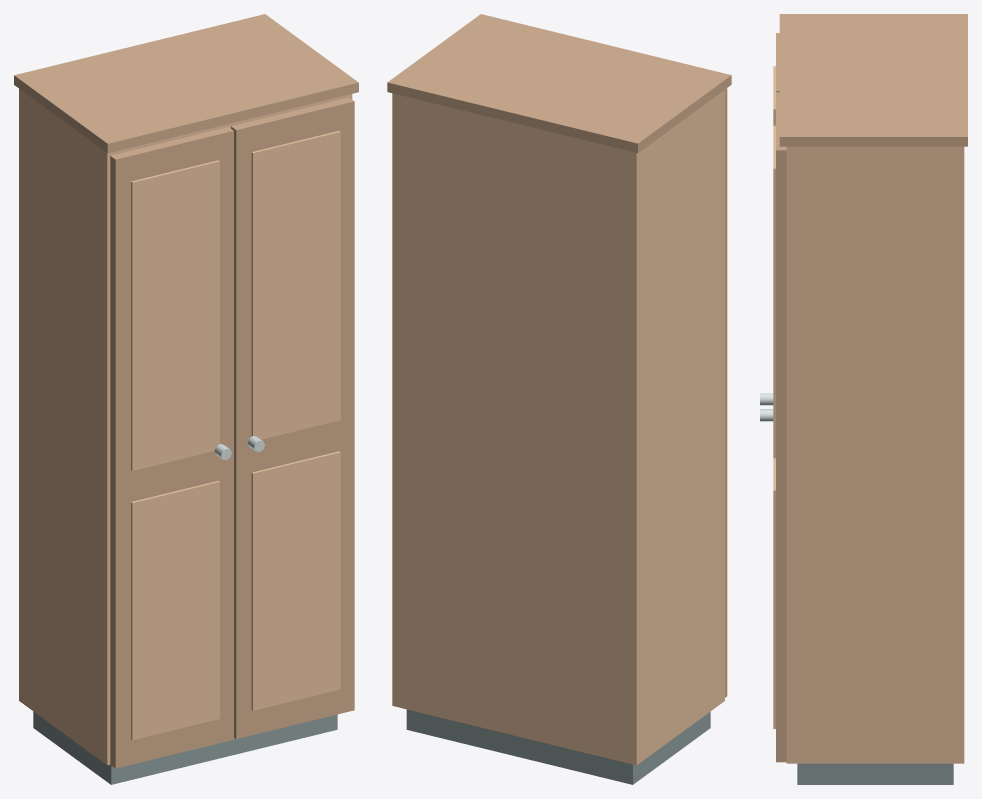
The model's file is pantryTall.glb.
3 renders of one model, left to right at view 1: azimuth 30°, elevation 25°; view 2: azimuth 150°, elevation 25°; view 3: azimuth 270°, elevation 25°, orthographic.
Parts seen in each view (by area): view 1: pantryTall, anim:door, anim:door2; view 2: pantryTall, anim:door; view 3: pantryTall, anim:door2, anim:door.
Boxes of the visible parts, bbox=[...] form: pantryTall: bbox=[14, 14, 358, 784]; anim:door: bbox=[110, 127, 233, 768]; anim:door2: bbox=[231, 97, 354, 738]; pantryTall: bbox=[387, 14, 731, 784]; anim:door: bbox=[725, 88, 727, 697]; pantryTall: bbox=[779, 14, 967, 784]; anim:door2: bbox=[760, 92, 786, 762]; anim:door: bbox=[760, 33, 779, 405].
Bounding box in the file's own units: 0.41 × 1.01 × 0.2925.
